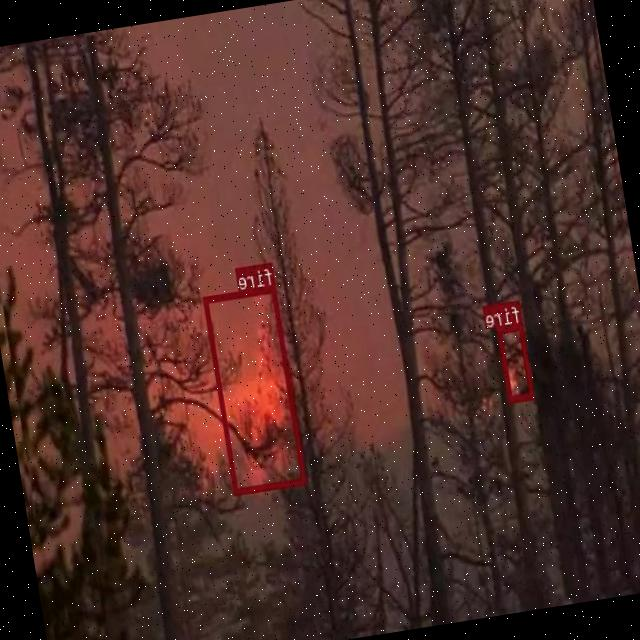fire: (205, 285, 308, 494), (498, 323, 536, 402)
